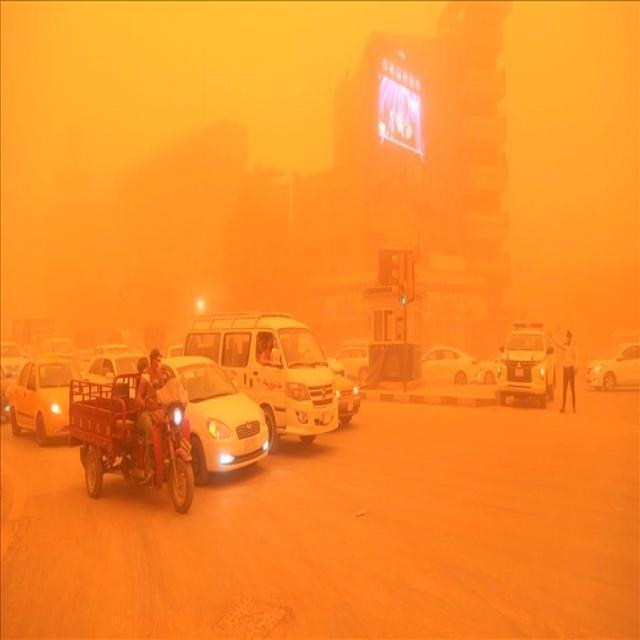Manhole: (206, 590, 296, 638)
